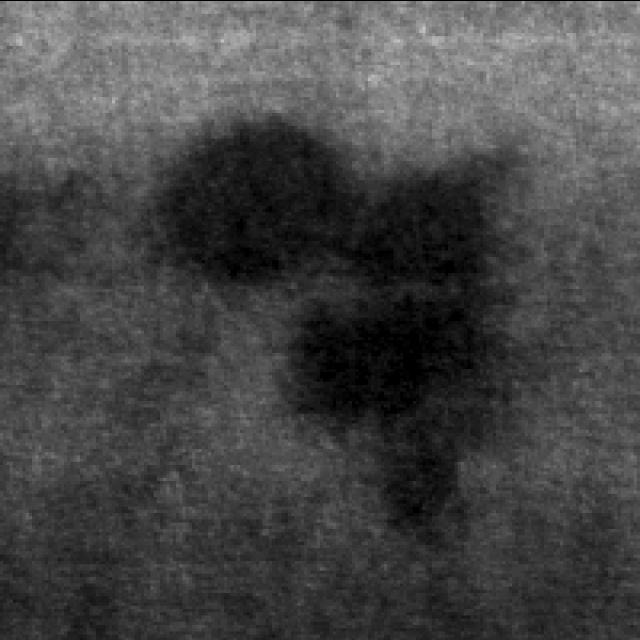patches: (294, 150, 500, 508), (149, 156, 337, 302)
